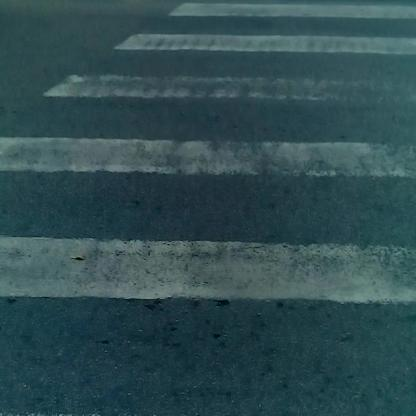crosswalk: (2, 7, 413, 400)
